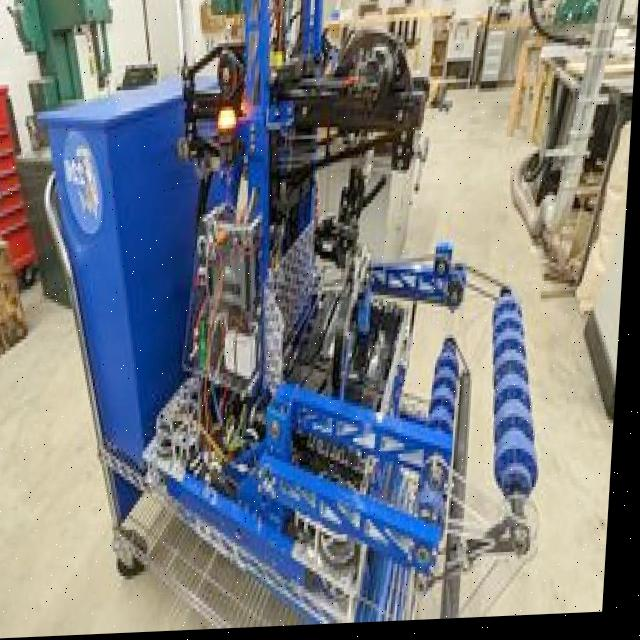robot: (133, 0, 586, 606)
